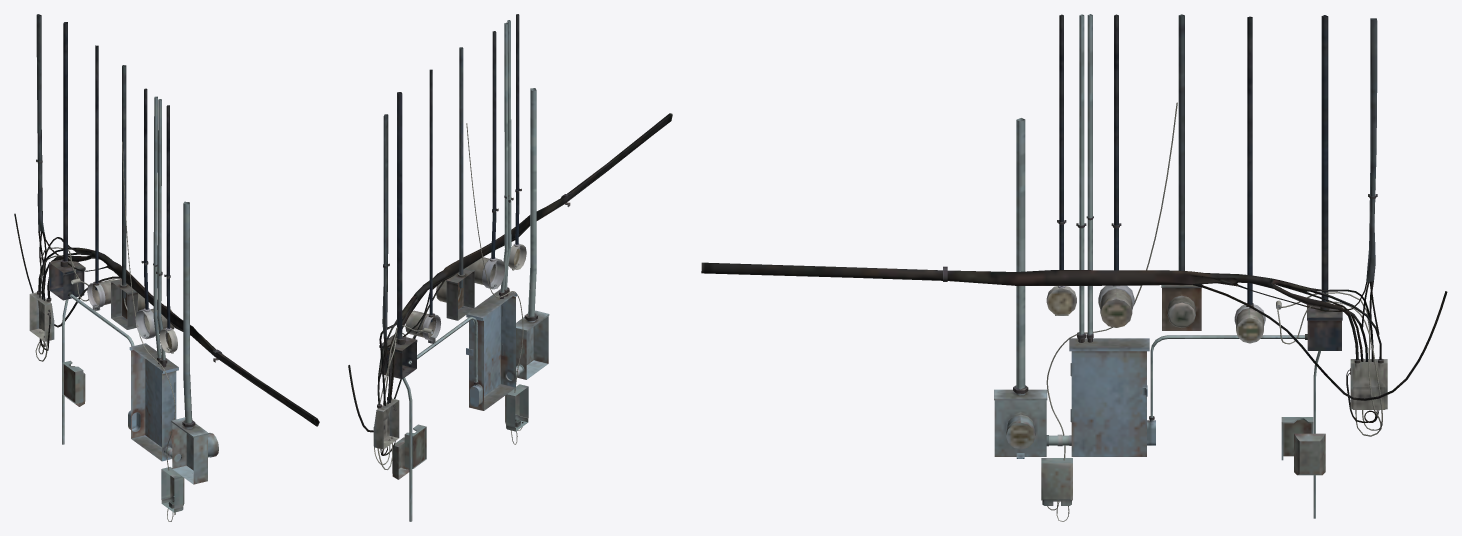
Rendered from sm20_027_electricitymeter01b.fbx.
The picture shows the model from 3 angles, left to right: view 1: azimuth 30°, elevation 25°; view 2: azimuth 150°, elevation 25°; view 3: azimuth 270°, elevation 25°; orthographic projection. The views are drawn at different scales.
Visible parts, largest first — view 1: LOD_1_Group_0_Sub_1__sm20_027_electricityMeter01B_A_Mat; view 2: LOD_1_Group_0_Sub_1__sm20_027_electricityMeter01B_A_Mat; view 3: LOD_1_Group_0_Sub_1__sm20_027_electricityMeter01B_A_Mat.
Boxes of the visible parts, x1,y1,x2,y2 form: LOD_1_Group_0_Sub_1__sm20_027_electricityMeter01B_A_Mat: [14, 14, 319, 521]; LOD_1_Group_0_Sub_1__sm20_027_electricityMeter01B_A_Mat: [348, 14, 672, 521]; LOD_1_Group_0_Sub_1__sm20_027_electricityMeter01B_A_Mat: [701, 14, 1447, 521].
Size of the model in its own units: 0.1208 by 1.4 by 1.86.
